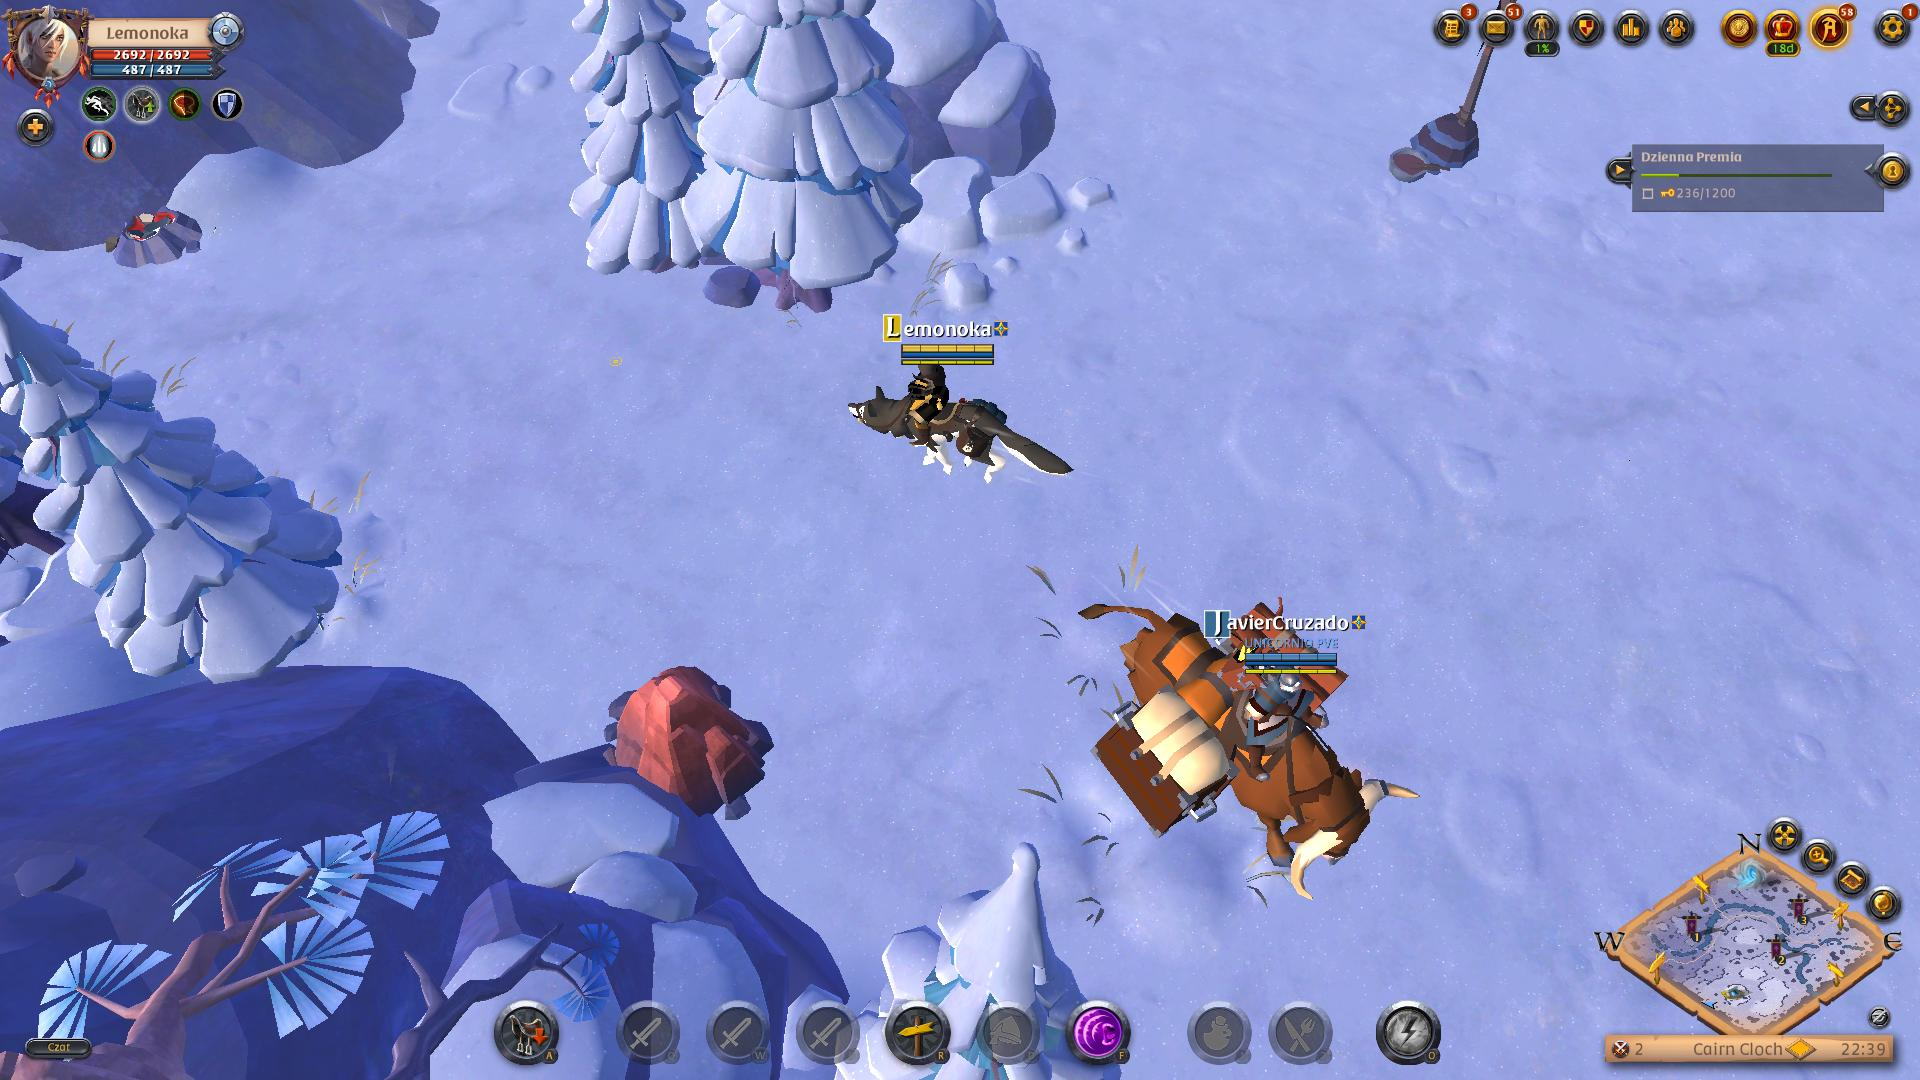rock tier 5: (589, 658, 770, 825)
